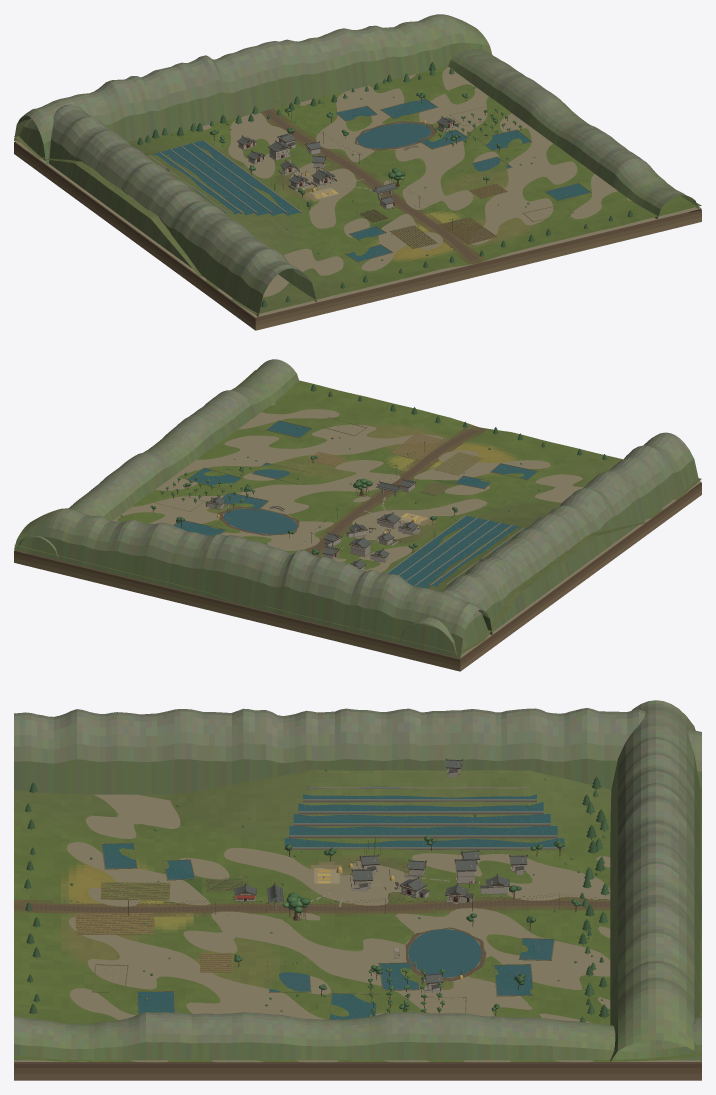
Rendered from rural.glb.
3 views of the same model, one above another, from view 1: azimuth 30°, elevation 25°; view 2: azimuth 150°, elevation 25°; view 3: azimuth 270°, elevation 25° (orthographic). The views are drawn at different scales.
Visible parts, largest first — view 1: Rural_Mountain, Rural_Rural_Ground_PBR, Rural_Matte.001, Rural_Matte, Rural_Rough, Rural_Rural_Dirt_PBR, Rural_Stone, Water_Pond, Rural_Rural_Grey_Tile_PBR, Rural_Rural_Limewash_PBR, Water_Terrace.001, Water_Terrace.002 (+3 smaller); view 2: Rural_Mountain, Rural_Rural_Ground_PBR, Rural_Matte.001, Rural_Matte, Rural_Rough, Rural_Rural_Dirt_PBR, Rural_Stone, Water_Pond, Rural_Rural_Grey_Tile_PBR, Rural_Rural_Limewash_PBR, Water_Terrace.002, Water_Terrace.001 (+2 smaller); view 3: Rural_Mountain, Rural_Rural_Ground_PBR, Rural_Matte.001, Rural_Matte, Rural_Stone, Rural_Rough, Rural_Rural_Dirt_PBR, Water_Pond, Water_Terrace.001, Water_Terrace.002, Rural_Rural_Grey_Tile_PBR, Water_Terrace (+9 smaller).
Part boxes in pixels (left/top/right/bottom): Rural_Mountain: left=14, top=14, right=698, bottom=316; Rural_Rural_Ground_PBR: left=14, top=66, right=701, bottom=314; Rural_Matte.001: left=14, top=67, right=701, bottom=330; Rural_Matte: left=137, top=62, right=661, bottom=307; Rural_Rough: left=302, top=97, right=591, bottom=262; Rural_Rural_Dirt_PBR: left=263, top=109, right=477, bottom=260; Rural_Stone: left=149, top=126, right=453, bottom=222; Water_Pond: left=357, top=123, right=431, bottom=148; Rural_Rural_Grey_Tile_PBR: left=237, top=117, right=453, bottom=204; Rural_Rural_Limewash_PBR: left=168, top=121, right=457, bottom=208; Water_Terrace.001: left=178, top=143, right=285, bottom=215; Water_Terrace.002: left=168, top=146, right=270, bottom=215; Rural_Mountain: left=14, top=359, right=698, bottom=658; Rural_Rural_Ground_PBR: left=14, top=370, right=701, bottom=654; Rural_Matte.001: left=14, top=402, right=701, bottom=671; Rural_Matte: left=121, top=384, right=606, bottom=585; Rural_Rough: left=154, top=417, right=538, bottom=533; Rural_Rural_Dirt_PBR: left=218, top=429, right=478, bottom=555; Rural_Stone: left=209, top=459, right=524, bottom=586; Water_Pond: left=223, top=509, right=297, bottom=534; Rural_Rural_Grey_Tile_PBR: left=209, top=480, right=487, bottom=567; Rural_Rural_Limewash_PBR: left=205, top=482, right=480, bottom=570; Water_Terrace.002: left=407, top=520, right=498, bottom=586; Water_Terrace.001: left=399, top=518, right=487, bottom=580; Rural_Mountain: left=14, top=700, right=701, bottom=1061; Rural_Rural_Ground_PBR: left=14, top=770, right=701, bottom=1062; Rural_Matte.001: left=14, top=794, right=701, bottom=1080; Rural_Matte: left=24, top=758, right=611, bottom=1022; Rural_Stone: left=155, top=770, right=564, bottom=989; Rural_Rough: left=75, top=842, right=554, bottom=1019; Rural_Rural_Dirt_PBR: left=24, top=900, right=610, bottom=981; Water_Pond: left=408, top=929, right=481, bottom=977; Water_Terrace.001: left=289, top=826, right=557, bottom=835; Water_Terrace.002: left=293, top=814, right=550, bottom=823; Rural_Rural_Grey_Tile_PBR: left=235, top=760, right=526, bottom=982; Water_Terrace: left=284, top=838, right=564, bottom=847.
Size of the model in its own units: 320 by 45.08 by 300.
Materials: 17 (7 with a texture image).
